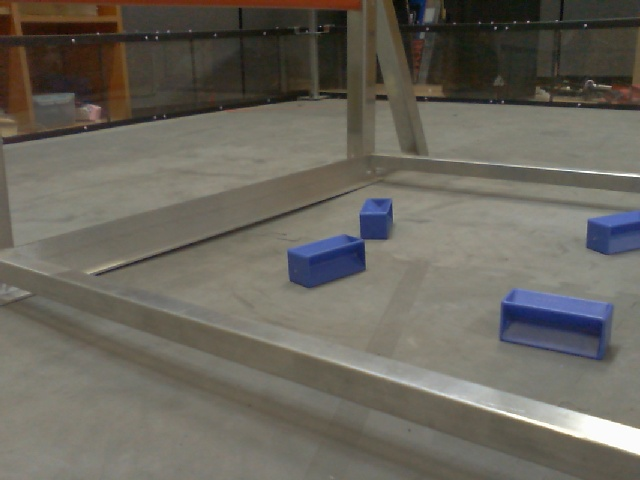BlueSample: (498, 285, 619, 367), (283, 231, 368, 289), (585, 207, 640, 259), (356, 197, 395, 240)
